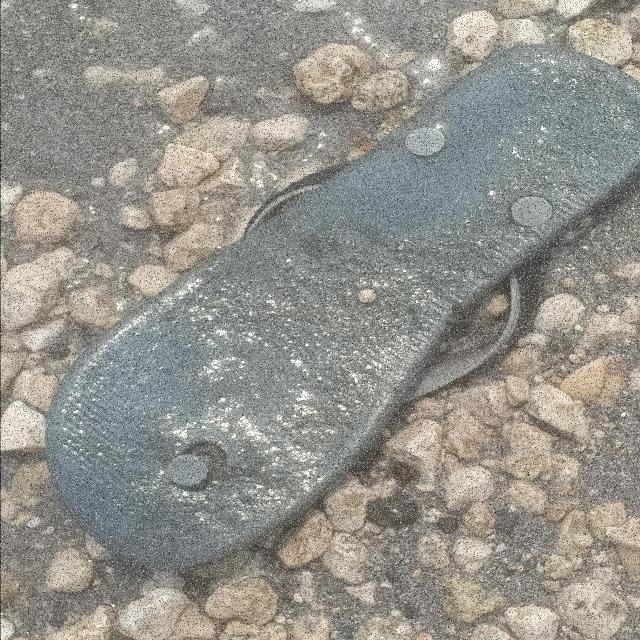rubber_waste: (43, 44, 640, 575)
